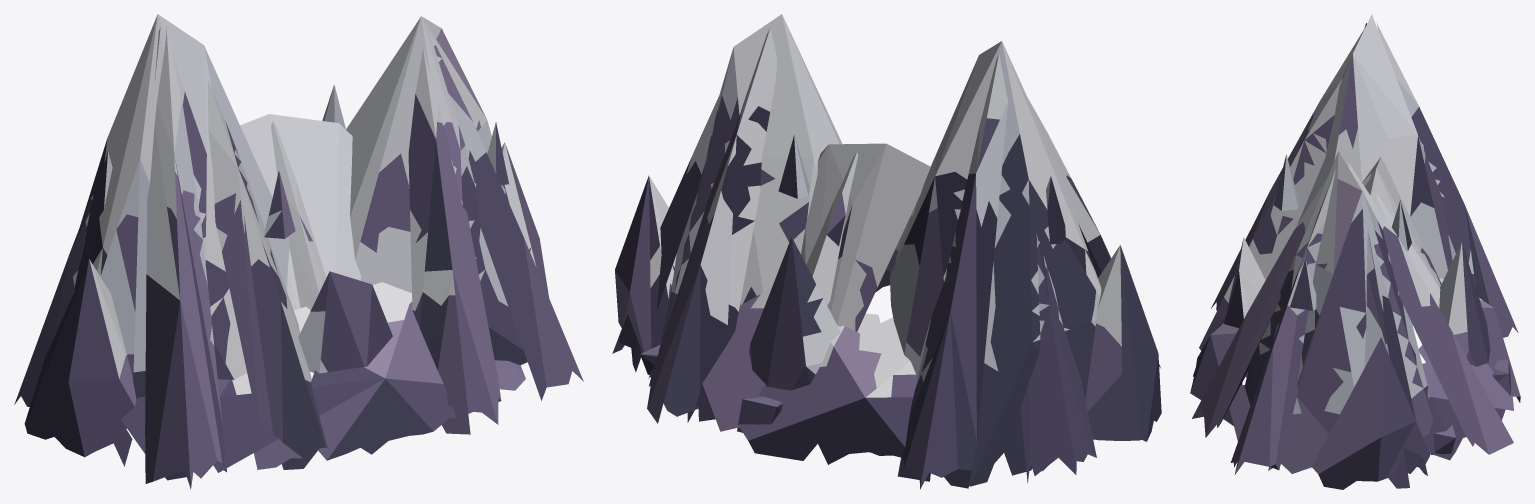
File: mtn_peak_b.glb
The picture shows the model from 3 angles, left to right: view 1: azimuth 30°, elevation 25°; view 2: azimuth 150°, elevation 25°; view 3: azimuth 270°, elevation 25°; orthographic projection. The views are drawn at different scales.
Visible parts, largest first — view 1: mtn_peak_b; view 2: mtn_peak_b; view 3: mtn_peak_b.
Boxes of the visible parts, bbox=[...] form: mtn_peak_b: bbox=[14, 14, 583, 489]; mtn_peak_b: bbox=[612, 14, 1161, 489]; mtn_peak_b: bbox=[1190, 14, 1520, 489].
Bounding box in the file's own units: 106 × 76.84 × 69.67.
